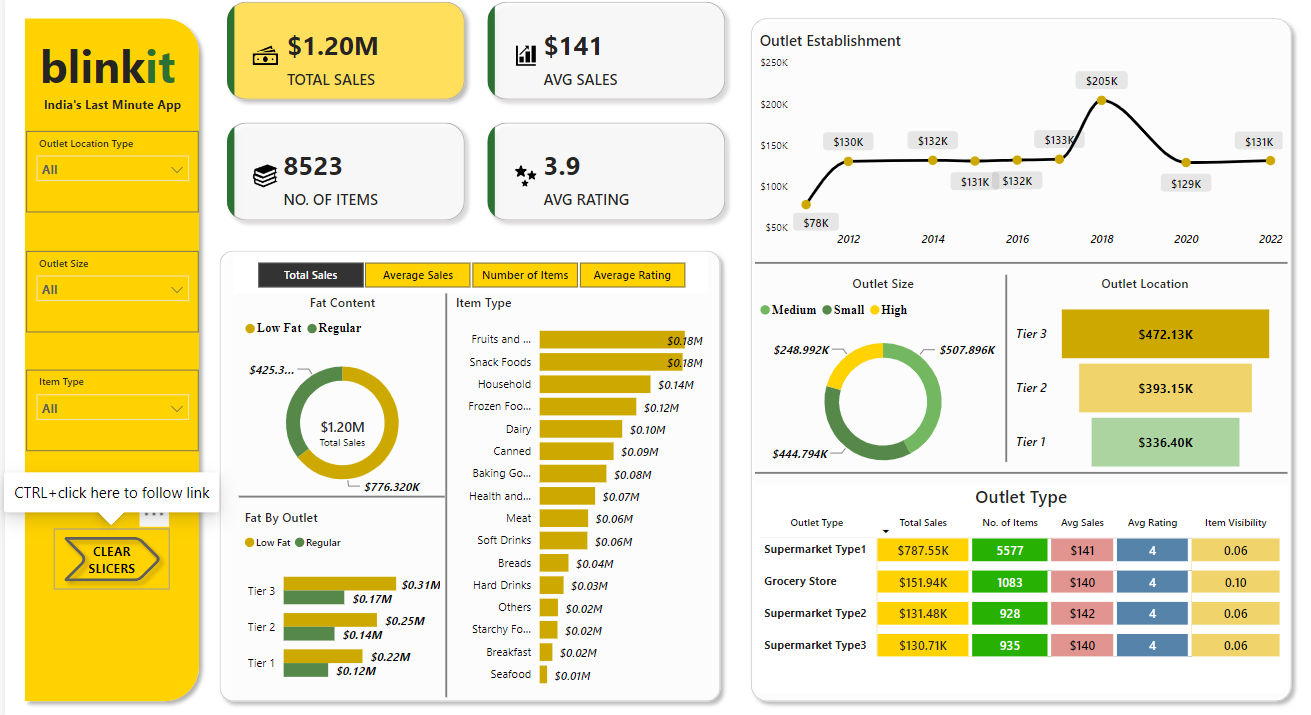

This screenshot's page, from the dashboard's own definition file:
{"tool":"powerbi","page":{"name":"Home Page","canvas":[1400,800],"ordinal":0},"visuals":[{"type":"shape","box":[12.1,25.5,205,750.4],"z":0},{"type":"textbox","box":[32.2,46.9,166.2,83.1],"z":1000},{"type":"textbox","box":[32.2,112.6,166.2,33.5],"z":2000},{"type":"cardVisual","fields":{"Data":["BlinkIT Grocery Data.Total Sales","BlinkIT Grocery Data.Average Sales","BlinkIT Grocery Data.Number of Items","BlinkIT Grocery Data.Average Rating"]},"box":[221.1,0,569.5,269.3],"z":3000},{"type":"shape","box":[221.1,274.7,554.8,501.2],"z":4000},{"type":"donutChart","title":"Fat Content","fields":{"Y":["BlinkIT Grocery Data.Total Sales"],"Category":["BlinkIT Grocery Data.Item Fat Content"]},"box":[251.9,329.6,219.8,230.5],"z":5000},{"type":"slicer","fields":{"Values":["Metrics.Metrics"]},"box":[245.2,289.4,507.9,40.2],"z":6000},{"type":"cardVisual","fields":{"Data":["BlinkIT Grocery Data.Total Sales"]},"box":[292.1,444.9,139.4,53.6],"z":7000},{"type":"clusteredBarChart","title":"Fat By Outlet","fields":{"Y":["BlinkIT Grocery Data.Total Sales"],"Category":["BlinkIT Grocery Data.Outlet Location Type"],"Series":["BlinkIT Grocery Data.Item Fat Content"]},"box":[251.9,560.1,219.8,202.3],"z":8000},{"type":"shape","box":[250.6,534.7,221.1,25.5],"z":9000},{"type":"shape","box":[457,329.6,32.2,432.8],"z":10000},{"type":"barChart","title":"Item Type","fields":{"Y":["BlinkIT Grocery Data.Total Sales"],"Category":["BlinkIT Grocery Data.Item Type"]},"box":[478.4,329.6,274.7,432.8],"z":11000},{"type":"shape","box":[790.6,25.5,597.7,750.4],"z":12000},{"type":"lineChart","title":"Outlet Establishment","fields":{"Y":["BlinkIT Grocery Data.Total Sales"],"Category":["BlinkIT Grocery Data.Outlet Establishment Year"]},"box":[804,46.9,570.9,242.5],"z":13000},{"type":"shape","box":[804,284.1,570.9,25.5],"z":14000},{"type":"donutChart","title":"Outlet Size","fields":{"Y":["BlinkIT Grocery Data.Total Sales"],"Category":["BlinkIT Grocery Data.Outlet Size"]},"box":[804,309.5,275,225],"z":15000},{"type":"shape","box":[1057.3,309.5,32.2,201],"z":16000},{"type":"funnel","title":"Outlet Location","fields":{"Category":["BlinkIT Grocery Data.Outlet Location Type"],"Y":["BlinkIT Grocery Data.Total Sales"]},"box":[1078.7,309.5,286.8,225.1],"z":17000},{"type":"shape","box":[804,509.2,570.9,25.5],"z":18000},{"type":"pivotTable","title":"Outlet Type","fields":{"Rows":["BlinkIT Grocery Data.Outlet Type"],"Values":["BlinkIT Grocery Data.Total Sales","BlinkIT Grocery Data.Number of Items","BlinkIT Grocery Data.Average Sales","BlinkIT Grocery Data.Average Rating","Avg(BlinkIT Grocery Data.Item Visibility)"]},"box":[804,534.7,570.9,223.8],"z":19000},{"type":"slicer","fields":{"Values":["BlinkIT Grocery Data.Outlet Location Type"]},"box":[22.8,155.4,184.9,87.1],"z":20000},{"type":"slicer","fields":{"Values":["BlinkIT Grocery Data.Outlet Size"]},"box":[22.8,284.1,184.9,87.1],"z":21000},{"type":"slicer","fields":{"Values":["BlinkIT Grocery Data.Item Type"]},"box":[22.8,411.4,184.9,87.1],"z":22000},{"type":"actionButton","box":[52.3,581.6,124.6,65.7],"z":22002}]}

Visuals, with their boxes on the page's 1400x800 design canvas (x1, y1, x2, y2). These are canvas units, not pixel positions in the 1311x715 screenshot, which may show the page scaled, cropped or inside an application window:
shape: select_region(12, 26, 217, 776)
textbox: select_region(32, 47, 198, 130)
textbox: select_region(32, 113, 198, 146)
cardVisual - BlinkIT Grocery Data.Total Sales x BlinkIT Grocery Data.Average Sales: select_region(221, 0, 791, 269)
shape: select_region(221, 275, 776, 776)
"Fat Content" donutChart: select_region(252, 330, 472, 560)
slicer - Metrics.Metrics: select_region(245, 289, 753, 330)
cardVisual - BlinkIT Grocery Data.Total Sales: select_region(292, 445, 432, 498)
"Fat By Outlet" clusteredBarChart: select_region(252, 560, 472, 762)
shape: select_region(251, 535, 472, 560)
shape: select_region(457, 330, 489, 762)
"Item Type" barChart: select_region(478, 330, 753, 762)
shape: select_region(791, 26, 1388, 776)
"Outlet Establishment" lineChart: select_region(804, 47, 1375, 289)
shape: select_region(804, 284, 1375, 310)
"Outlet Size" donutChart: select_region(804, 310, 1079, 534)
shape: select_region(1057, 310, 1090, 510)
"Outlet Location" funnel: select_region(1079, 310, 1366, 535)
shape: select_region(804, 509, 1375, 535)
"Outlet Type" pivotTable: select_region(804, 535, 1375, 758)
slicer - BlinkIT Grocery Data.Outlet Location Type: select_region(23, 155, 208, 242)
slicer - BlinkIT Grocery Data.Outlet Size: select_region(23, 284, 208, 371)
slicer - BlinkIT Grocery Data.Item Type: select_region(23, 411, 208, 498)
actionButton: select_region(52, 582, 177, 647)
